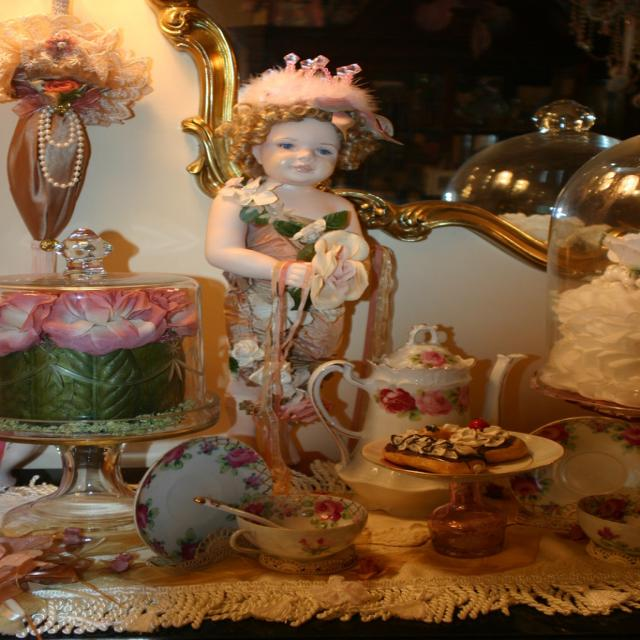non-organic waste: (115, 421, 300, 594)
